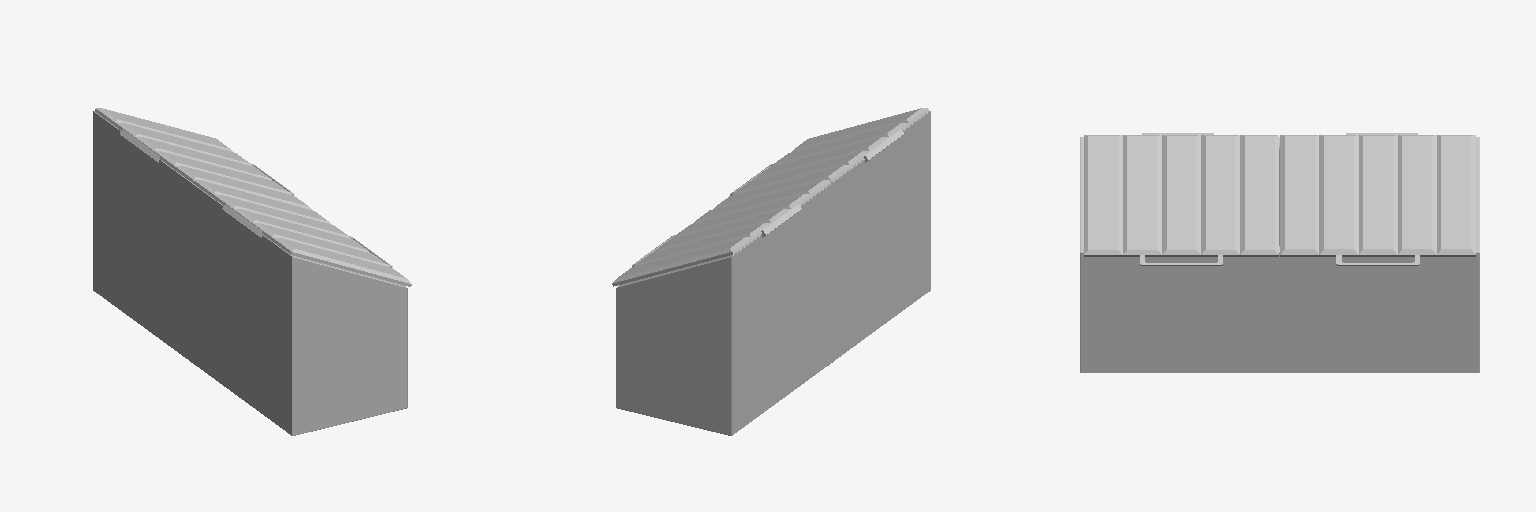
File: SellDumpster.obj
The picture shows the model from 3 angles: view 1: azimuth 30°, elevation 25°; view 2: azimuth 150°, elevation 25°; view 3: azimuth 270°, elevation 25°; orthographic projection.
Visible parts, largest first — view 1: DumpsterBase_Cube, DumpsterLidL_Cube.002, DumpsterLidR_Cube.003, Hinge_Cube.001; view 2: DumpsterBase_Cube, DumpsterLidR_Cube.003, DumpsterLidL_Cube.002, Hinge_Cube.001; view 3: DumpsterBase_Cube, DumpsterLidR_Cube.003, DumpsterLidL_Cube.002.
Part boxes in pixels (x1,y1,x2,y2): DumpsterBase_Cube: (93, 111, 407, 435); DumpsterLidL_Cube.002: (193, 180, 411, 286); DumpsterLidR_Cube.003: (95, 108, 311, 209); Hinge_Cube.001: (120, 129, 262, 237); DumpsterBase_Cube: (616, 111, 930, 435); DumpsterLidR_Cube.003: (612, 180, 830, 286); DumpsterLidL_Cube.002: (714, 108, 928, 208); Hinge_Cube.001: (761, 129, 903, 237); DumpsterBase_Cube: (1080, 137, 1479, 372); DumpsterLidR_Cube.003: (1280, 135, 1475, 265); DumpsterLidL_Cube.002: (1084, 135, 1278, 265).
Size of the model in its own units: 2.34 by 3.04 by 5.99.